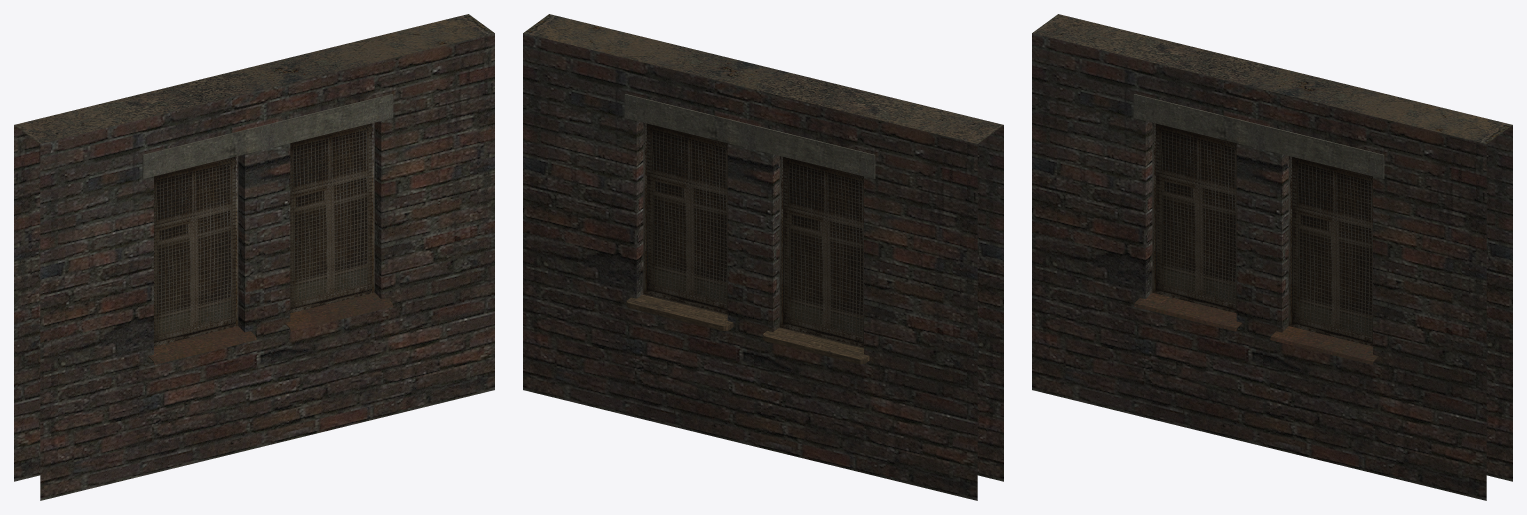
File: windows_hs_1.dae
3 renders of one model, left to right at view 1: azimuth 30°, elevation 25°; view 2: azimuth 150°, elevation 25°; view 3: azimuth 330°, elevation 25°, orthographic.
Visible parts, largest first — view 1: windows_hs_1; view 2: windows_hs_1; view 3: windows_hs_1.
Boxes of the visible parts, x1,y1,x2,y2 form: windows_hs_1: (14,14,494,500); windows_hs_1: (523,14,1003,500); windows_hs_1: (1032,14,1512,500).
Size of the model in its own units: 4 by 0.595 by 3.
6 materials, 6 textured.
